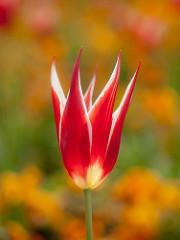tulip: (50, 50, 141, 191)
